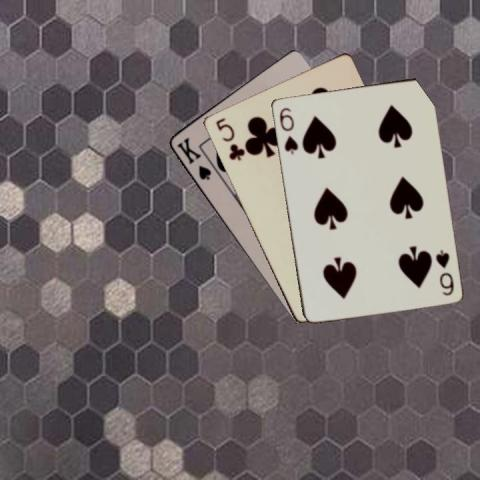5c: (212, 114, 245, 162)
6s: (276, 104, 299, 155), (432, 246, 455, 297)
Ks: (173, 134, 213, 181)
